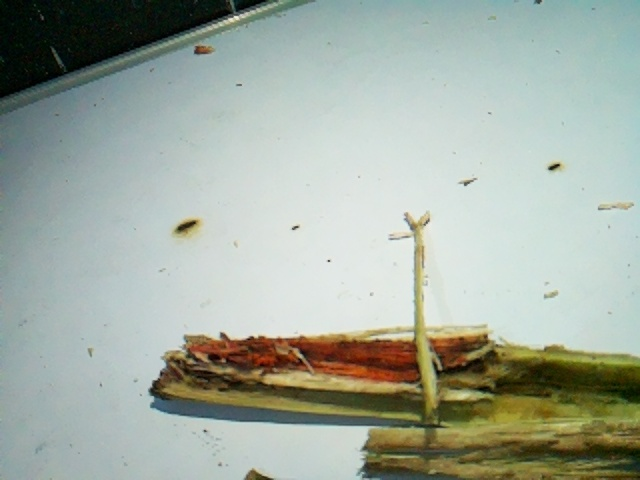Red-Rot: (149, 309, 494, 416)
